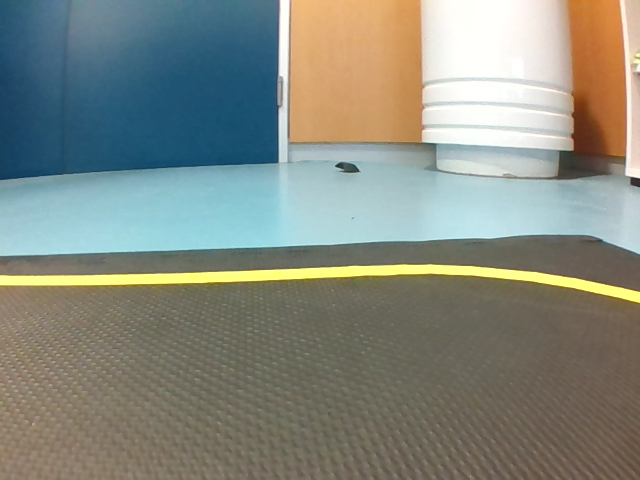30: (434, 86, 482, 140)
no30: (38, 121, 54, 150)
